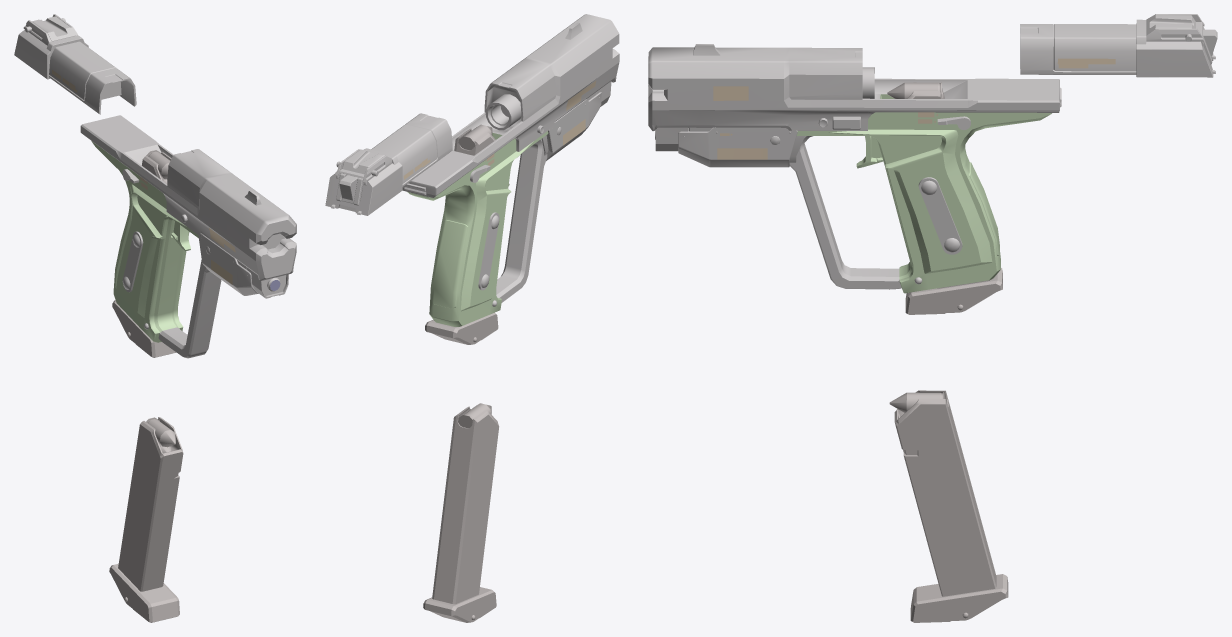
Rendered from JustTheGun_M6C.fbx.
3 views of the same model, side by side, from view 1: azimuth 30°, elevation 25°; view 2: azimuth 150°, elevation 25°; view 3: azimuth 270°, elevation 25° (orthographic). The views are drawn at different scales.
Parts seen in each view (by area): view 1: Right_M6C_Body, Right_M6C_Magazine2, Right_M6C_Slide, Right_M6C_Magazine1; view 2: Right_M6C_Body, Right_M6C_Magazine2, Right_M6C_Slide, Right_M6C_Magazine1; view 3: Right_M6C_Body, Right_M6C_Magazine2, Right_M6C_Slide, Right_M6C_Magazine1.
Boxes of the visible parts, <box> form: Right_M6C_Body: <box>80,115,296,358</box>; Right_M6C_Magazine2: <box>109,417,183,622</box>; Right_M6C_Slide: <box>14,14,136,114</box>; Right_M6C_Magazine1: <box>112,150,176,357</box>; Right_M6C_Body: <box>402,14,619,326</box>; Right_M6C_Magazine2: <box>423,403,499,622</box>; Right_M6C_Slide: <box>325,113,452,215</box>; Right_M6C_Magazine1: <box>425,124,498,344</box>; Right_M6C_Body: <box>648,44,1061,293</box>; Right_M6C_Magazine2: <box>889,390,1008,622</box>; Right_M6C_Slide: <box>1020,14,1217,77</box>; Right_M6C_Magazine1: <box>887,82,1002,314</box>.
Bounding box in the file's own units: 3.5 × 37.91 × 32.92.
